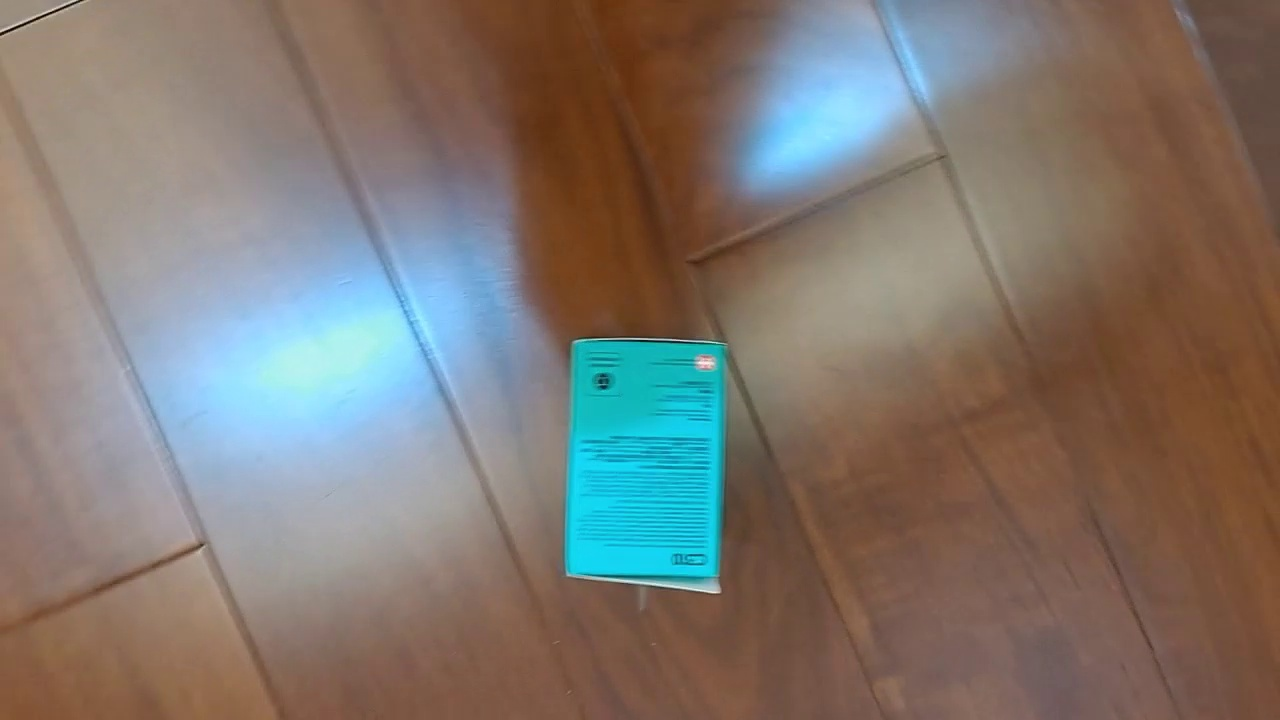webcam: (561, 335, 729, 595)
